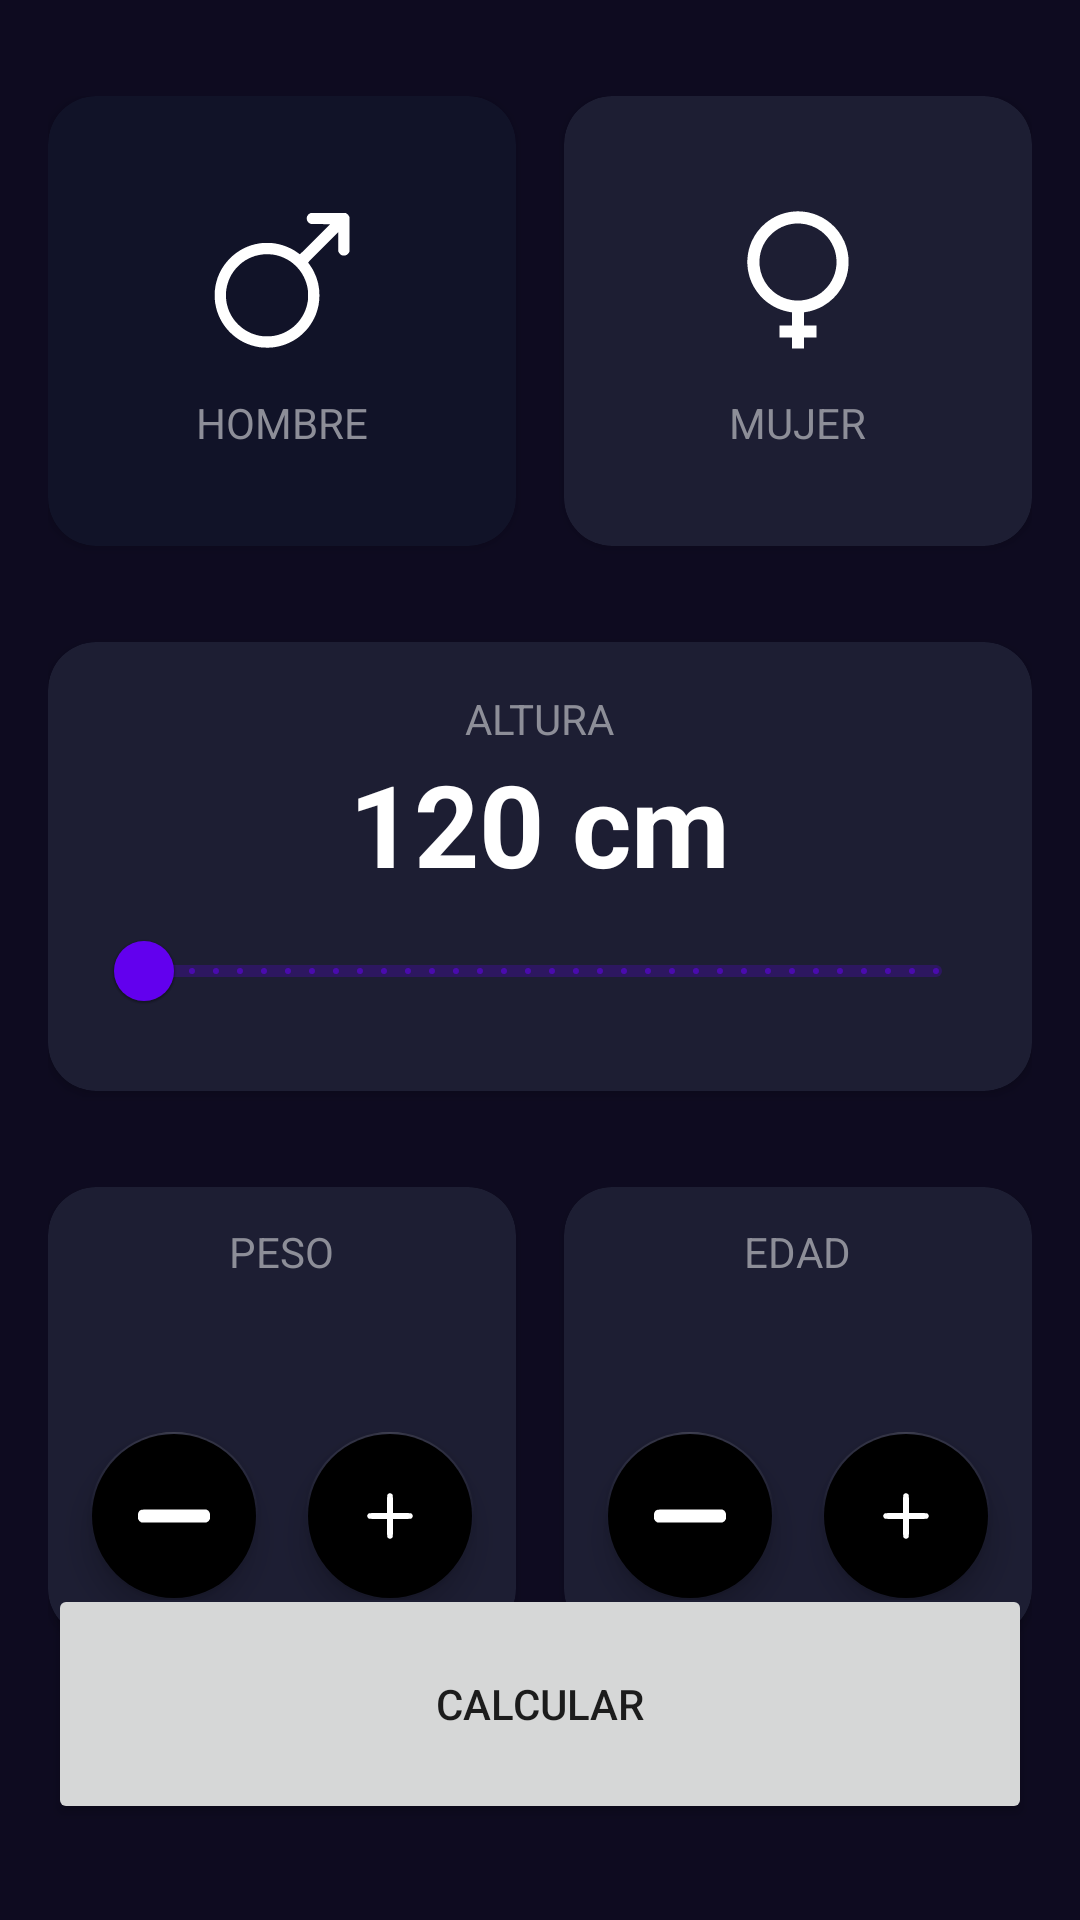

Icon click points for this 1080w x 1920h phone screenshot, format [x,y]:
female: [798,280]
male: [282,280]
plus: [390,1515], [906,1515]
subtract: [174,1515], [690,1515]
